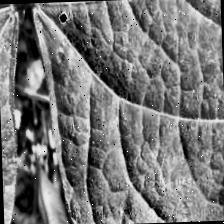ALS: (33, 0, 224, 224)
